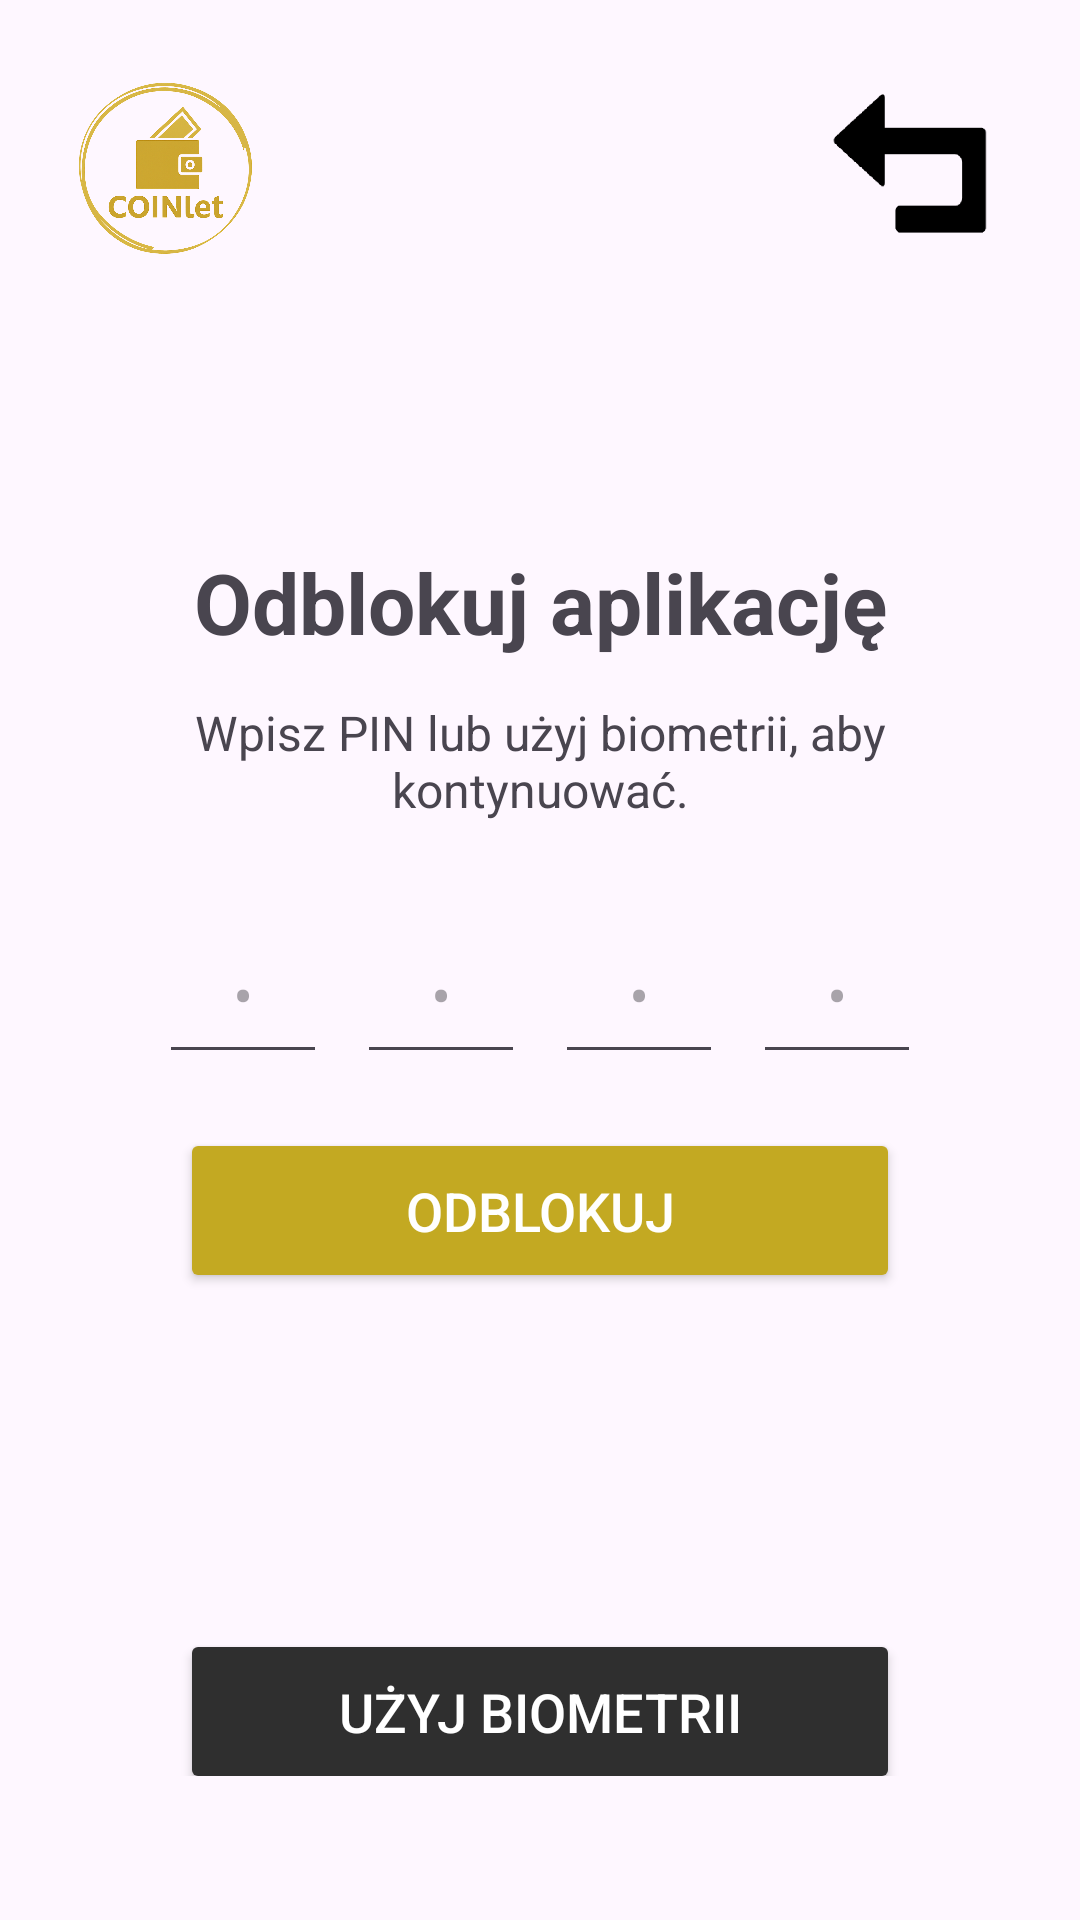

Icon bounding boxes for this 1080 x 1920 phone screenshot, format Rect(x1, y1, x2, y2):
back: Rect(833, 94, 987, 233)
